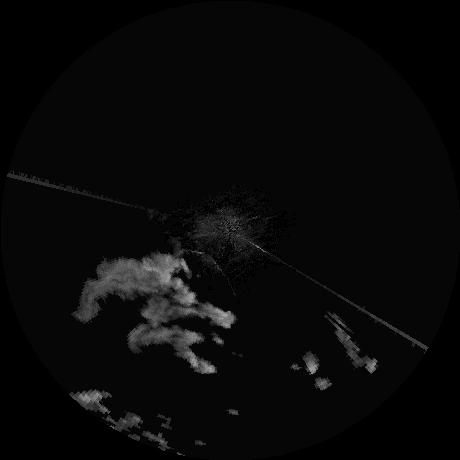frontgust: (179, 245, 227, 273)
